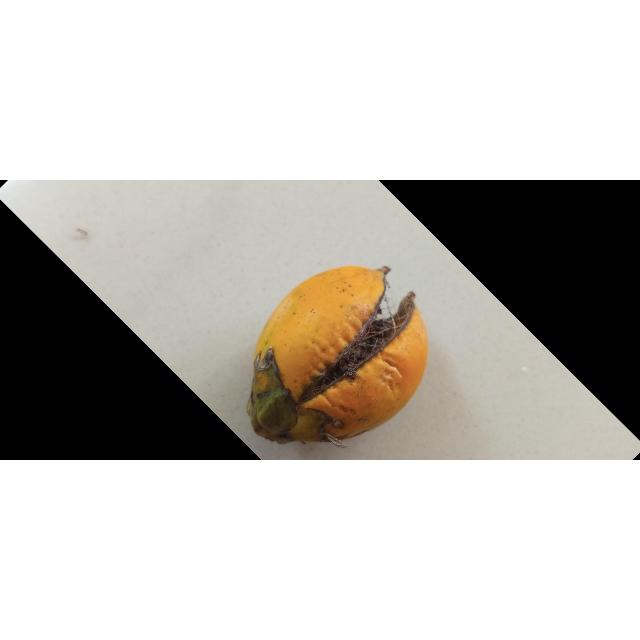damaged: (248, 266, 428, 445)
